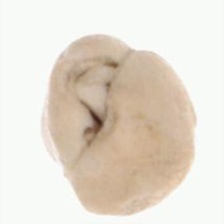L3: (64, 55, 115, 140)
L4: (42, 34, 198, 216)
